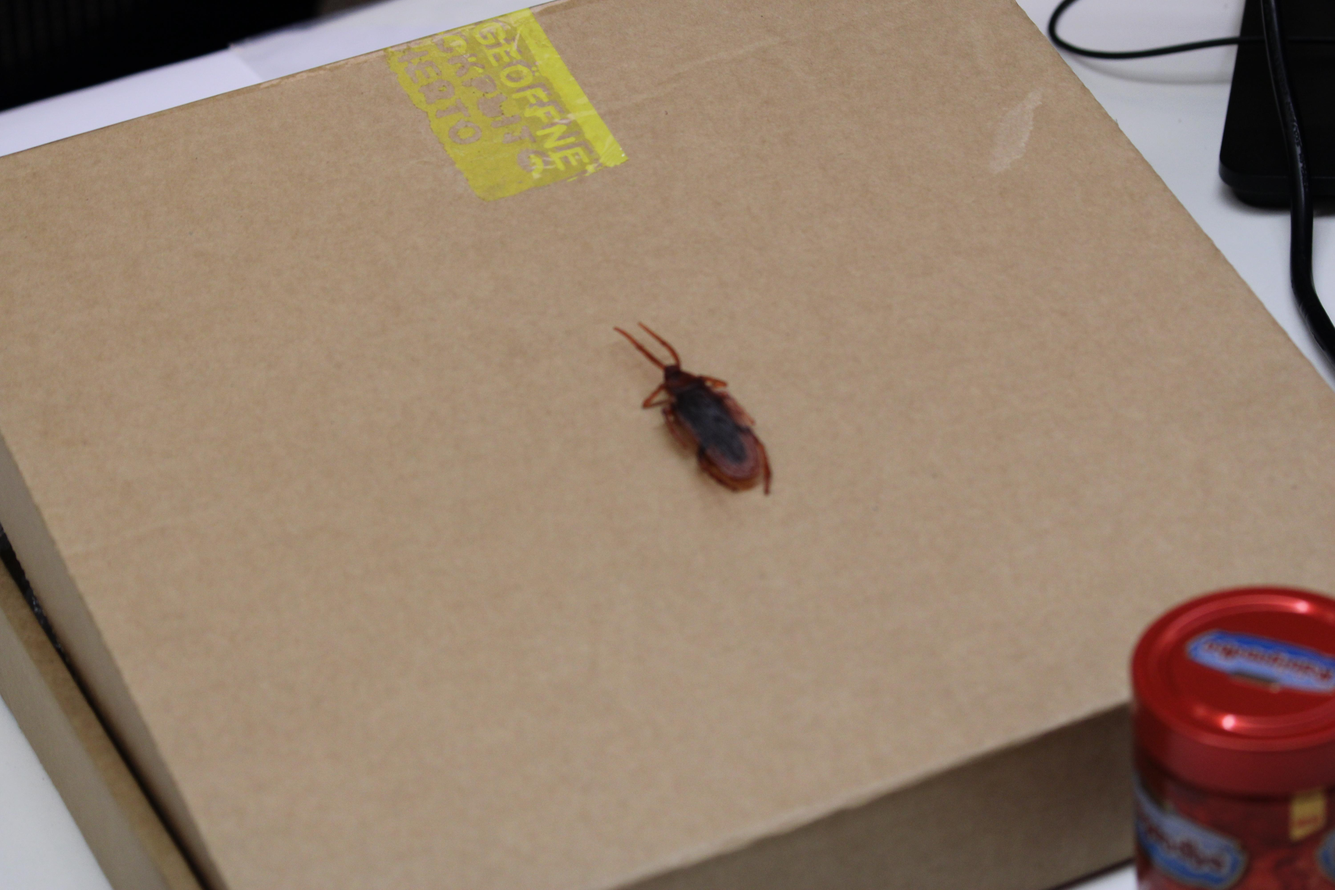cockroach: (617, 303, 782, 500)
